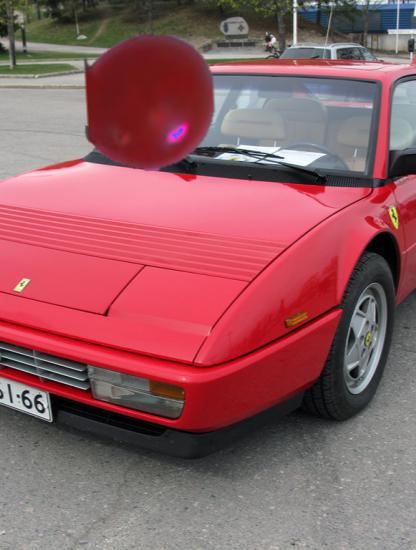Redcurrant: (82, 34, 219, 171)
